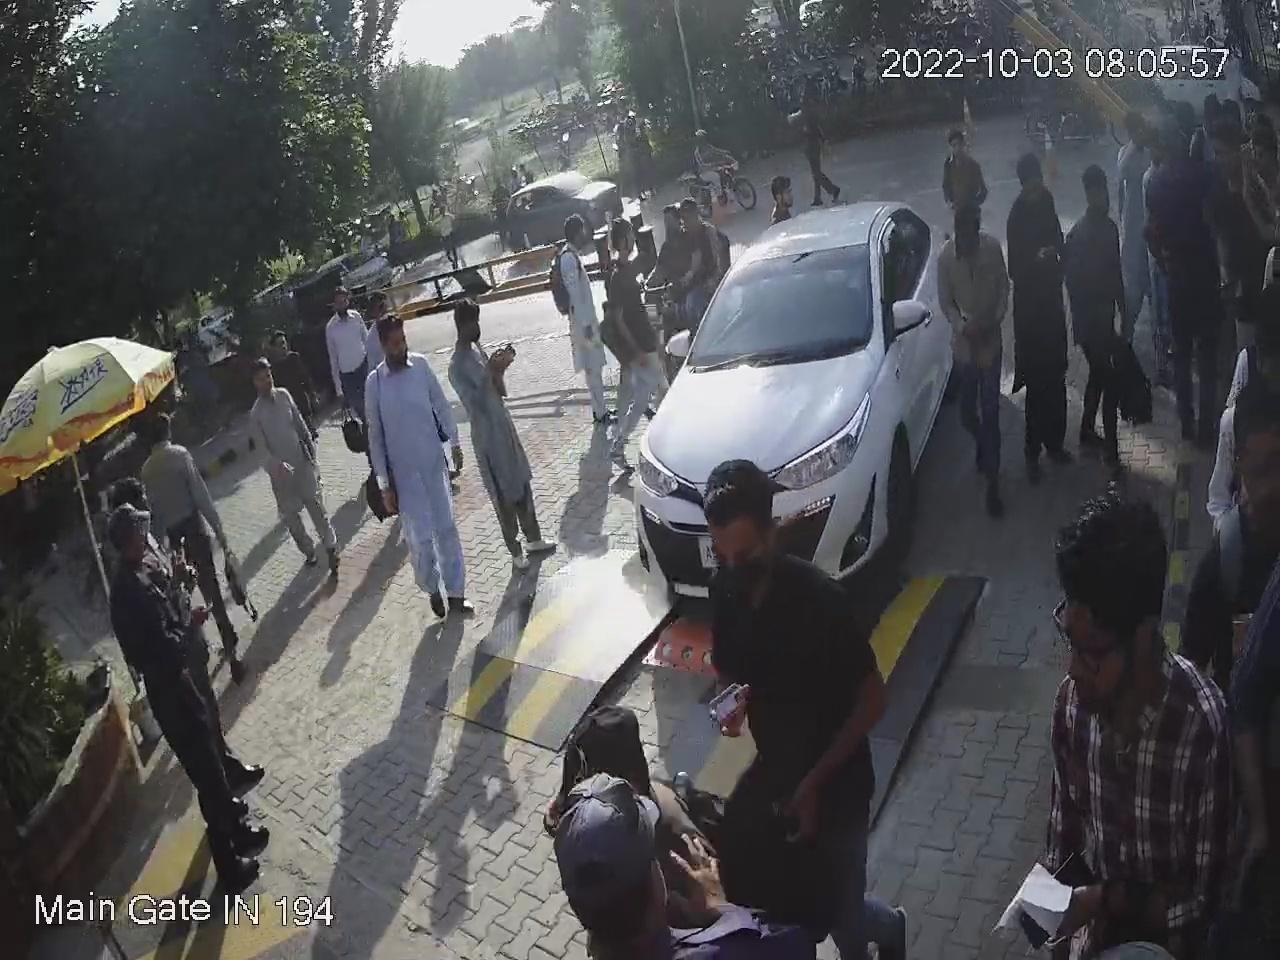windshield: (678, 233, 873, 370)
